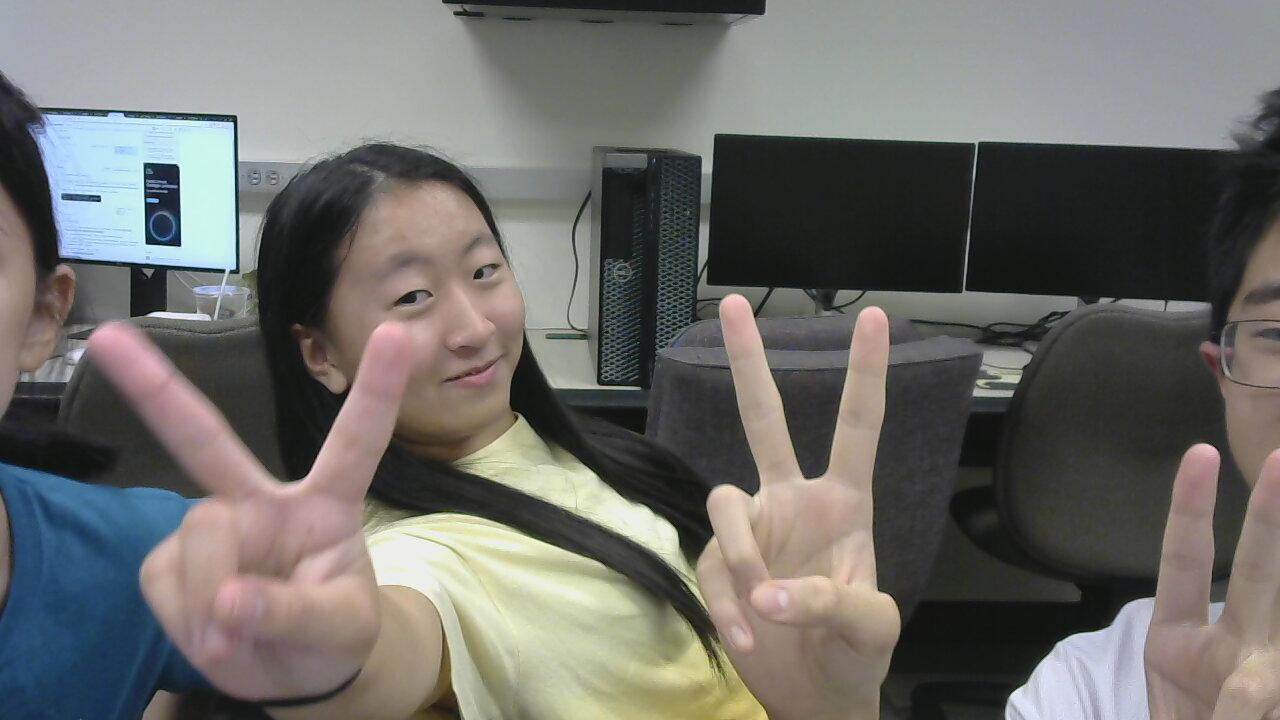peace: (86, 268, 420, 698), (682, 235, 934, 670), (1136, 387, 1280, 720)
